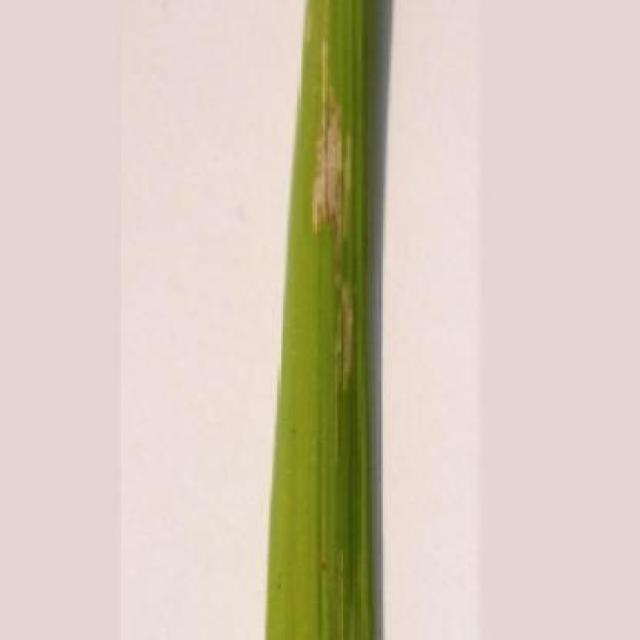Brown_Spot: (263, 0, 379, 640)
